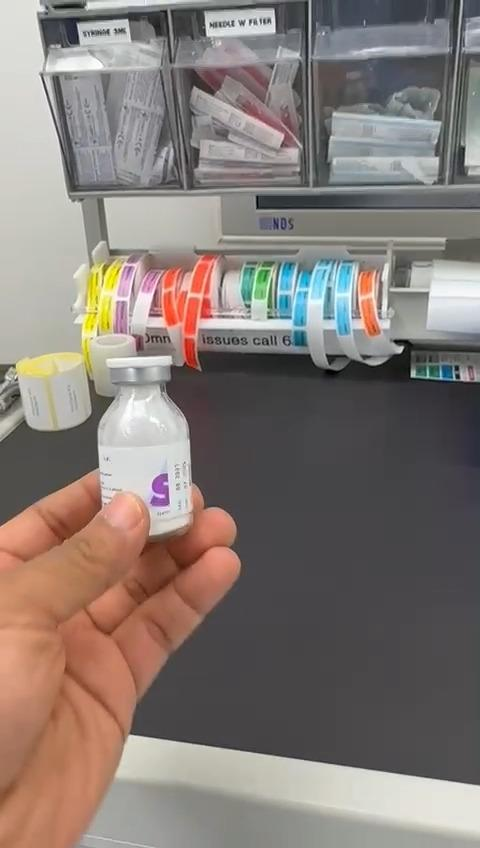augmentin: (98, 356, 192, 539)
